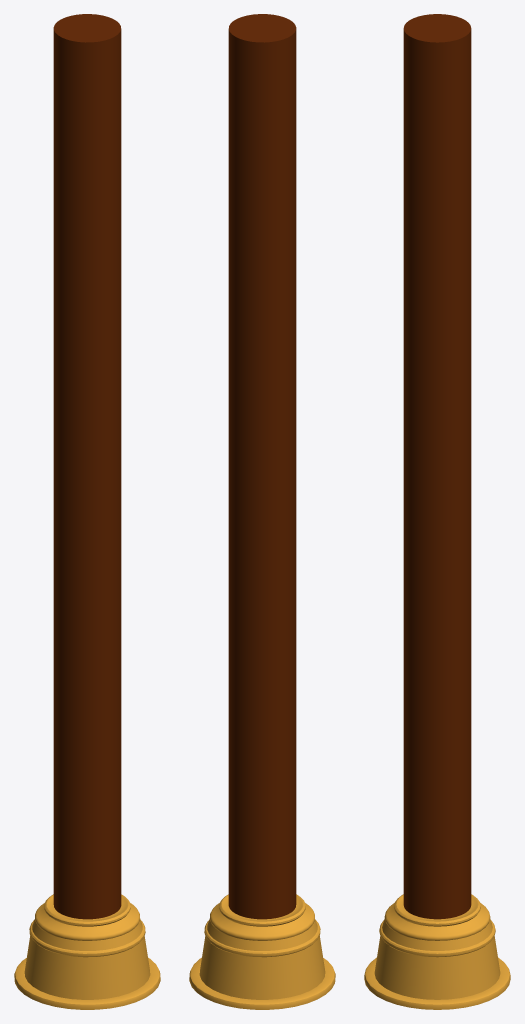
The model's file is Palace_Pillar.fbx.
3 renders of one model, left to right at view 1: azimuth 30°, elevation 25°; view 2: azimuth 150°, elevation 25°; view 3: azimuth 270°, elevation 25°, orthographic.
Parts seen in each view (by area): view 1: Pillar_Shaft, Pillar_Socket; view 2: Pillar_Shaft, Pillar_Socket; view 3: Pillar_Shaft, Pillar_Socket.
Part boxes in pixels (x1,y1,x2,y2): Pillar_Shaft: (53, 14, 121, 919); Pillar_Socket: (14, 894, 160, 1009); Pillar_Shaft: (228, 14, 296, 919); Pillar_Socket: (189, 894, 335, 1009); Pillar_Shaft: (403, 14, 471, 919); Pillar_Socket: (364, 894, 510, 1009).
Bounding box in the file's own units: 83.74 × 600 × 83.74.
